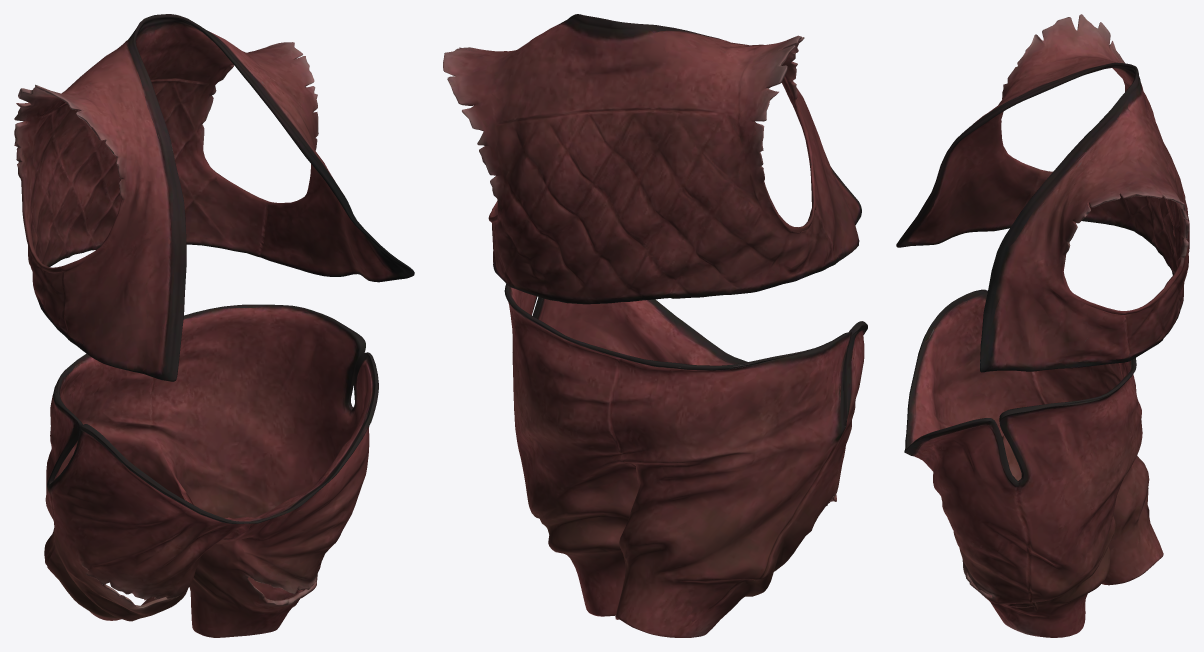
3 renders of one model, left to right at view 1: azimuth 30°, elevation 25°; view 2: azimuth 150°, elevation 25°; view 3: azimuth 270°, elevation 25°, orthographic. The views are drawn at different scales.
Visible parts, largest first — view 1: Kimono; view 2: Kimono; view 3: Kimono.
Part boxes in pixels (x1,y1,x2,y2): Kimono: (14, 14, 414, 637); Kimono: (443, 14, 867, 637); Kimono: (896, 14, 1189, 637).
Bounding box in the file's own units: 0.9904 × 1.63 × 0.7987.
Materials: 1 (1 with a texture image).
